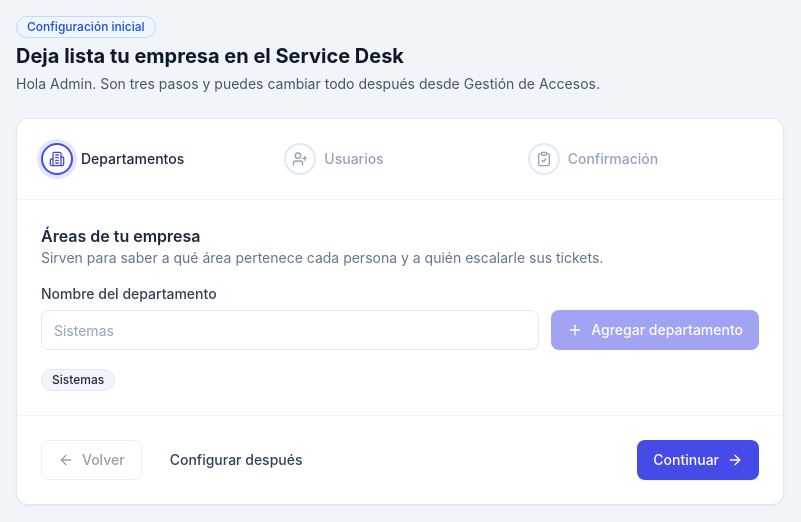
Scenario: OnboardingWizard › crea un departamento y lo agrega a la lista
Expected: the text "Sistemas" is shown, [41, 369, 115, 391]
Step 1. Type "Finanzas" into the field labelled "Nombre del departamento" → coordinates (290, 330), box [41, 310, 539, 350]
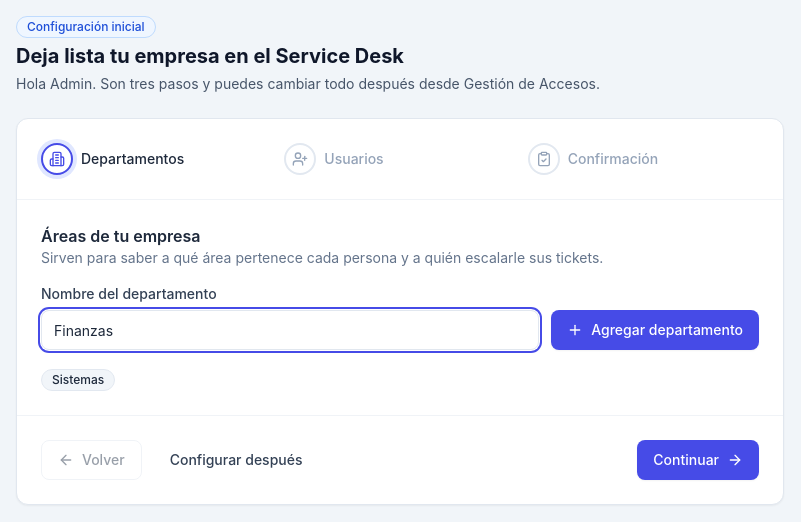
Step 2. Click the button "Agregar departamento" → coordinates (655, 330), box [551, 310, 759, 350]
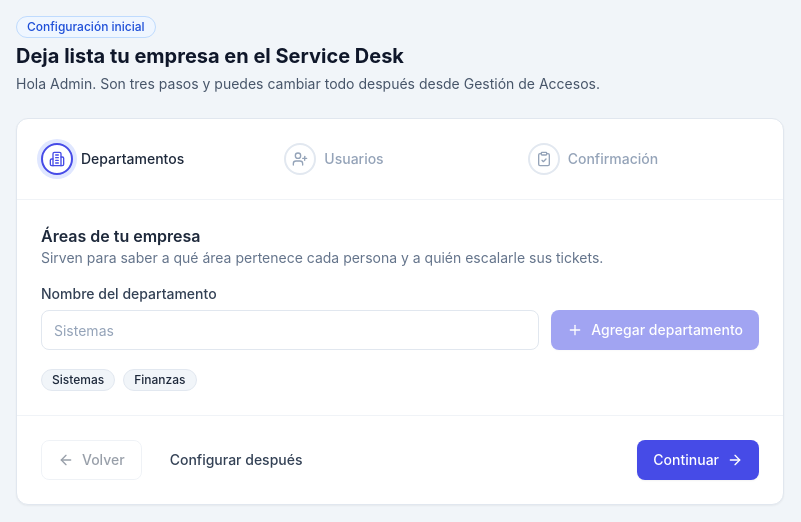
Result: the text "Finanzas" is shown at [123, 369, 196, 391]
